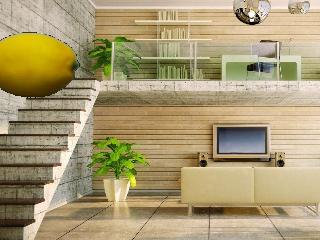lemon: (0, 32, 79, 96)
